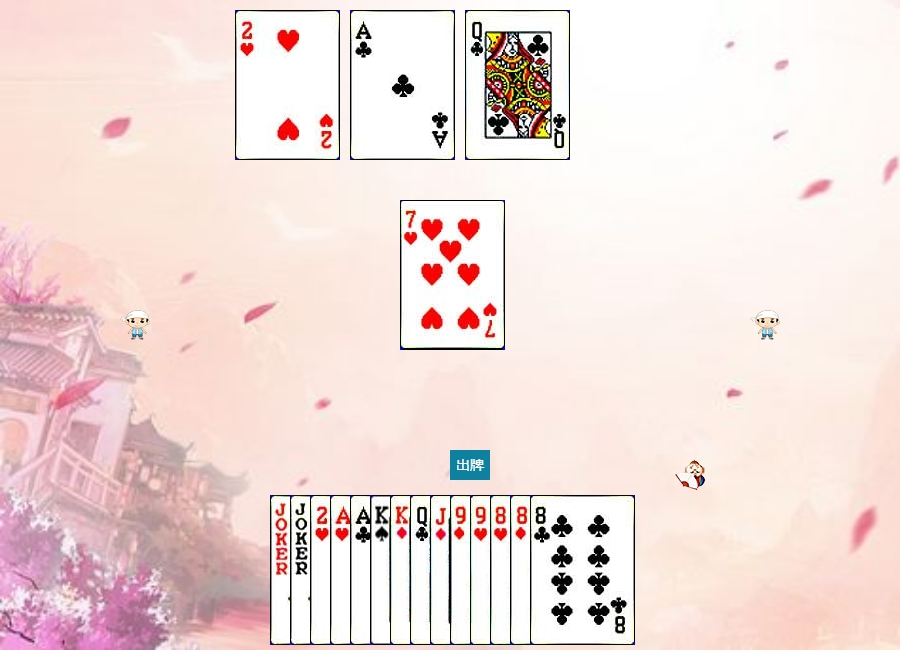11~1: (430, 495, 535, 645)
12~2: (465, 10, 570, 160), (410, 495, 515, 645)
13~1: (390, 495, 495, 645)
13~4: (370, 495, 475, 645)
14~2: (350, 10, 455, 160), (350, 495, 455, 645)
14~3: (330, 495, 435, 645)
15~3: (235, 10, 340, 160), (310, 495, 415, 645)
17~3: (290, 495, 395, 645)
18~4: (270, 495, 375, 645)
7~3: (400, 200, 505, 350)
8~1: (510, 495, 615, 645)
8~2: (530, 495, 635, 645)
8~3: (490, 495, 595, 645)
9~1: (450, 495, 555, 645)
9~3: (470, 495, 575, 645)
